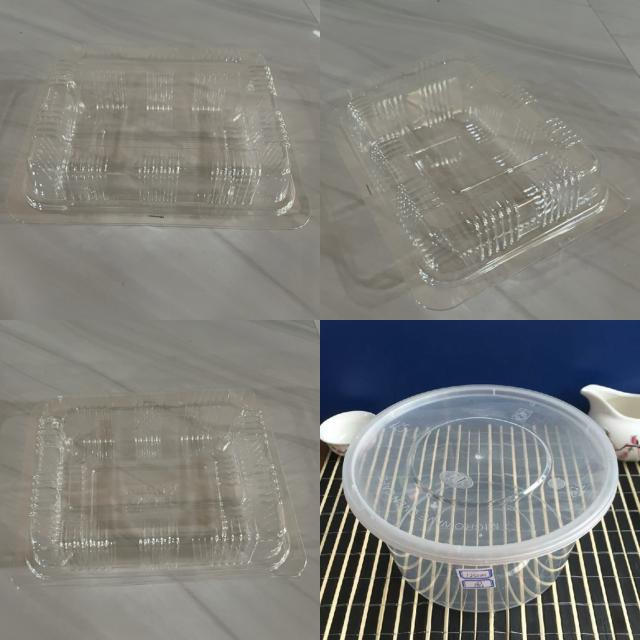Single-Use-Plastic: (328, 51, 629, 309), (342, 385, 619, 612), (11, 389, 305, 587), (8, 46, 309, 229)
